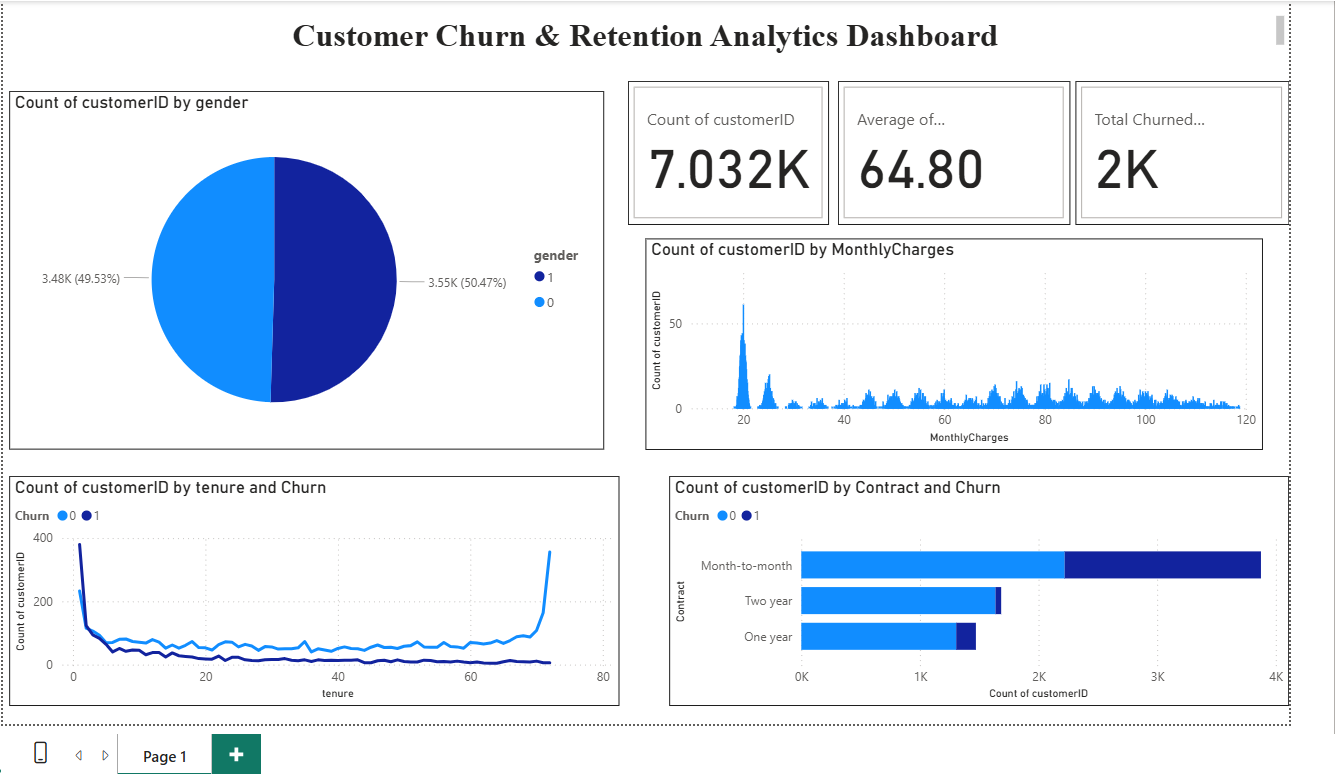

The page's visual inventory and layout, read from the dashboard file:
{"tool":"powerbi","page":{"name":"Page 1","canvas":[1280,720],"ordinal":0},"visuals":[{"type":"cardVisual","fields":{"Data":["CountNonNull(cleaned_churn_data.customerID)"]},"box":[622,79.6,200.3,143.1],"z":0},{"type":"cardVisual","fields":{"Data":["cleaned_churn_data.Total Churned Customers"]},"box":[1067.3,79.6,212.7,143.1],"z":1000},{"type":"cardVisual","fields":{"Data":["Avg(cleaned_churn_data.MonthlyCharges)"]},"box":[831,79.6,231.4,143.1],"z":1001},{"type":"barChart","fields":{"Category":["cleaned_churn_data.Contract"],"Series":["cleaned_churn_data.Churn"],"Y":["CountNonNull(cleaned_churn_data.customerID)"]},"box":[663,472.7,617,228.9],"z":1002},{"type":"clusteredColumnChart","fields":{"Category":["cleaned_churn_data.MonthlyCharges"],"Y":["CountNonNull(cleaned_churn_data.customerID)"]},"box":[639.4,236.4,614.5,210.2],"z":1003},{"type":"pieChart","fields":{"Category":["cleaned_churn_data.gender"],"Y":["CountNonNull(cleaned_churn_data.customerID)"]},"box":[6.2,89.6,592.1,357],"z":1004},{"type":"lineChart","fields":{"Category":["cleaned_churn_data.tenure"],"Y":["CountNonNull(cleaned_churn_data.customerID)"],"Series":["cleaned_churn_data.Churn"]},"box":[6.2,472.7,607.1,228.9],"z":1005},{"type":"textbox","box":[6.2,10,1273.8,56],"z":1006}]}

Visuals, with their boxes in screenshot pixels (x1, y1, x2, y2):
cardVisual - CountNonNull(cleaned_churn_data.customerID): [614, 86, 812, 228]
cardVisual - cleaned_churn_data.Total Churned Customers: [1055, 86, 1266, 228]
cardVisual - Avg(cleaned_churn_data.MonthlyCharges): [821, 86, 1051, 228]
barChart - cleaned_churn_data.Contract x cleaned_churn_data.Churn: [654, 476, 1266, 703]
clusteredColumnChart - cleaned_churn_data.MonthlyCharges x CountNonNull(cleaned_churn_data.customerID): [631, 241, 1241, 450]
pieChart - cleaned_churn_data.gender x CountNonNull(cleaned_churn_data.customerID): [3, 96, 590, 450]
lineChart - cleaned_churn_data.tenure x CountNonNull(cleaned_churn_data.customerID): [3, 476, 605, 703]
textbox: [3, 17, 1266, 72]
